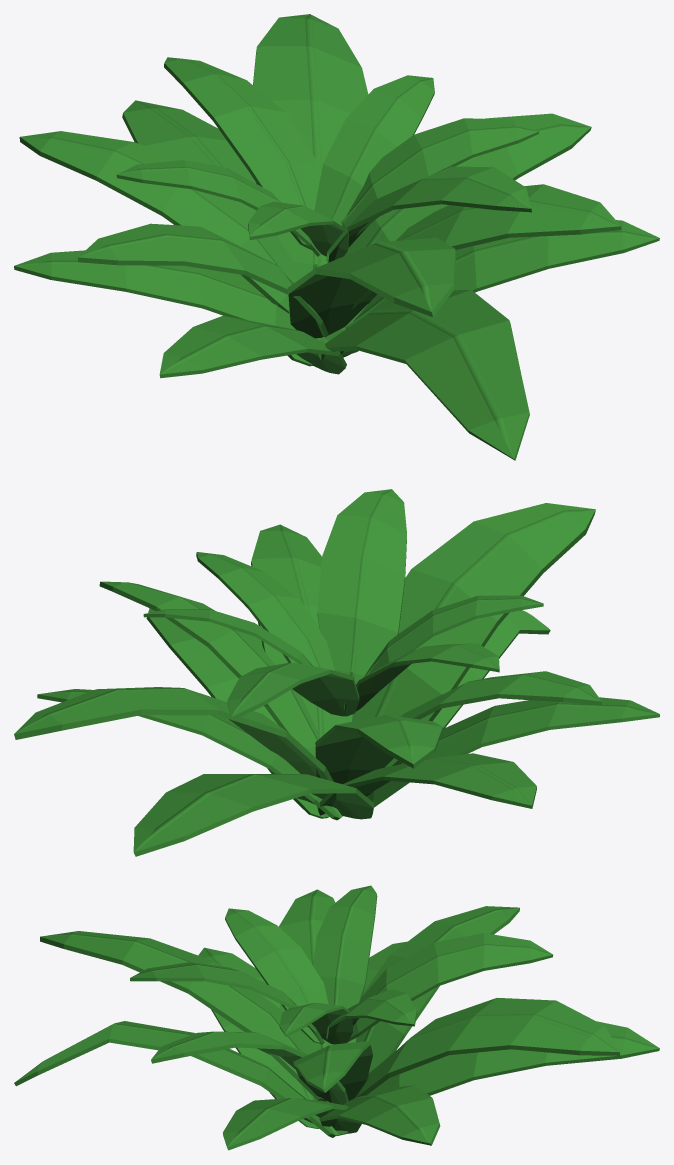
File: grass.fbx
3 renders of one model, top to bottom at view 1: azimuth 30°, elevation 25°; view 2: azimuth 150°, elevation 25°; view 3: azimuth 270°, elevation 25°, orthographic. The views are drawn at different scales.
Visible parts, largest first — view 1: grass; view 2: grass; view 3: grass.
Part boxes in pixels (x1,y1,x2,y2): grass: (14,14,659,460); grass: (14,489,659,856); grass: (14,885,659,1150).
Bounding box in the file's own units: 226 × 97.14 × 301.
